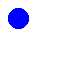circle: (8, 8, 28, 28)
